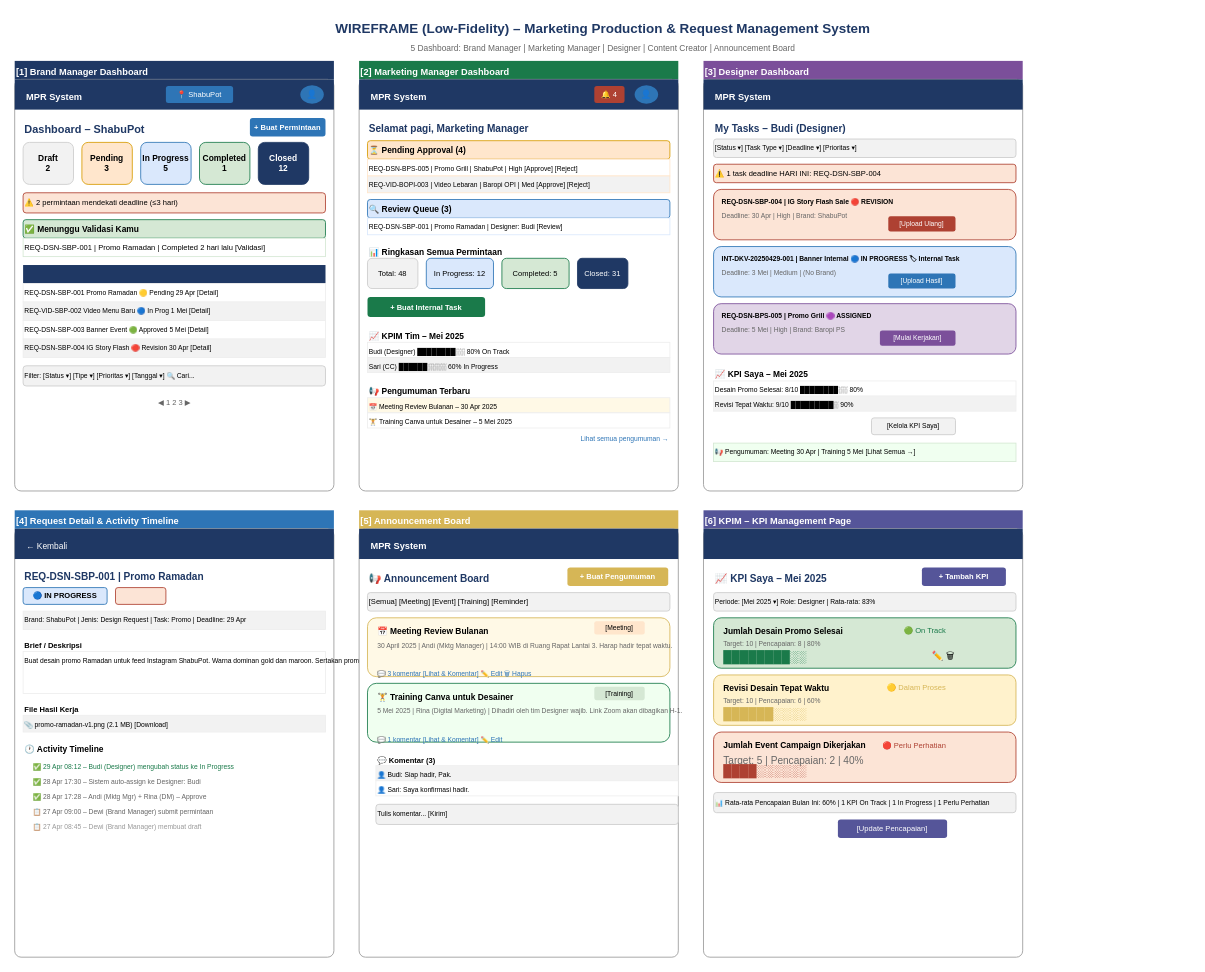
The diagram is 1205 pixels wide and 972 high, and some of its shapes have lost their labels. Each missing label, with the centre of its shape:
"Request ID Judul Status Deadline Aksi" belongs at pixel 174 274.
"🔴 HIGH" belongs at pixel 140 595.
